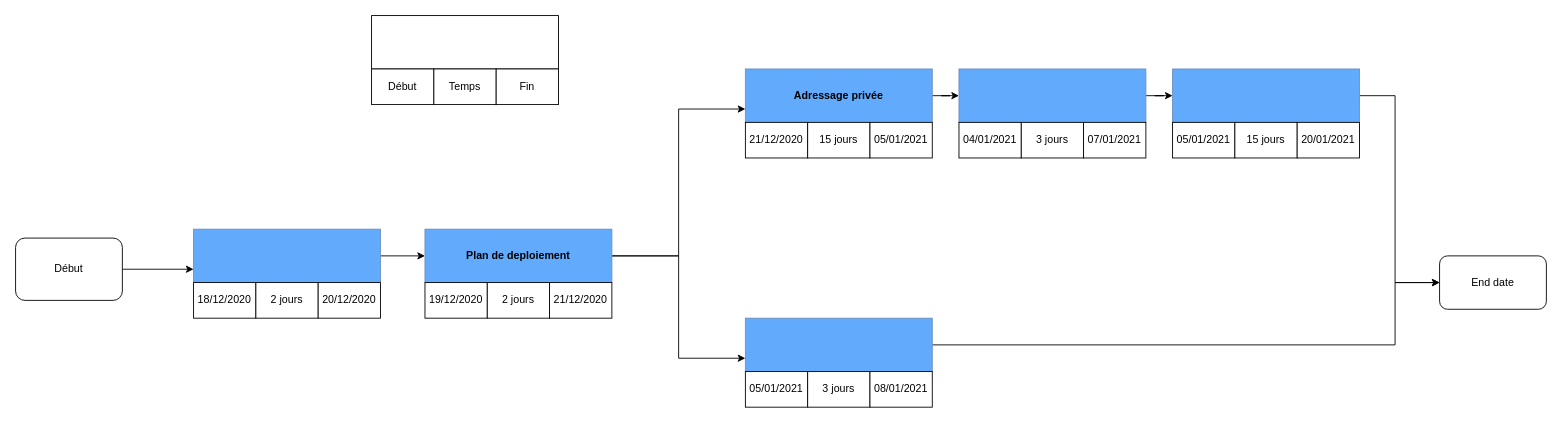
This 1562x423 diagram has some shape labels left out. The shapes that lost their labels are listed below. From the top down, each one's box as (x1, y1, x2, y2) in pixels, then its label:
(371, 15, 558, 69): Nom de la tâche
(958, 68, 1146, 122): Adressage public
(1172, 68, 1359, 122): Maquette Packet Tracer
(193, 228, 380, 283): Planning de deploiement
(744, 317, 932, 372): Schéma Visio
